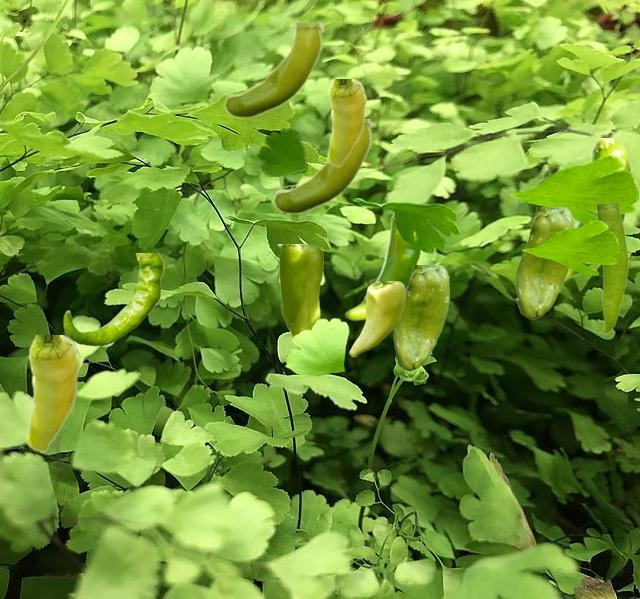green_chili: (564, 138, 632, 283), (272, 119, 372, 212), (223, 23, 323, 116), (63, 253, 163, 346), (344, 211, 421, 320), (515, 207, 573, 318), (25, 335, 80, 452), (393, 265, 448, 370), (277, 244, 322, 348), (595, 204, 627, 333), (349, 281, 404, 356), (326, 79, 366, 166)
